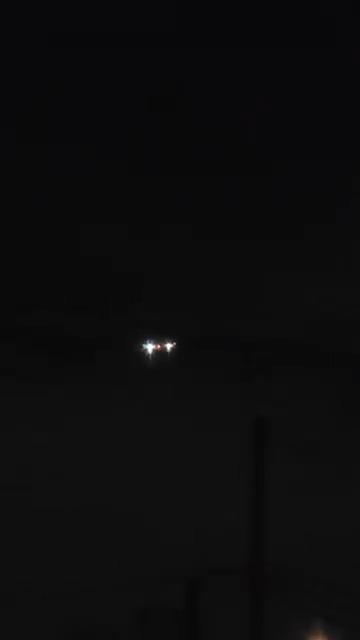Plane: (121, 300, 196, 389)
